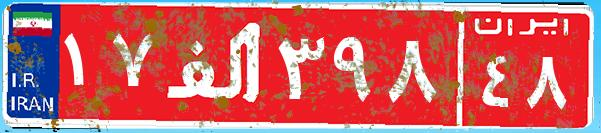1: (57, 26, 110, 107)
3: (273, 28, 330, 110)
4: (475, 38, 525, 113)
7: (110, 28, 158, 105)
8: (385, 28, 445, 110), (525, 38, 570, 115)
9: (330, 28, 385, 110)
الف: (158, 15, 273, 115)
